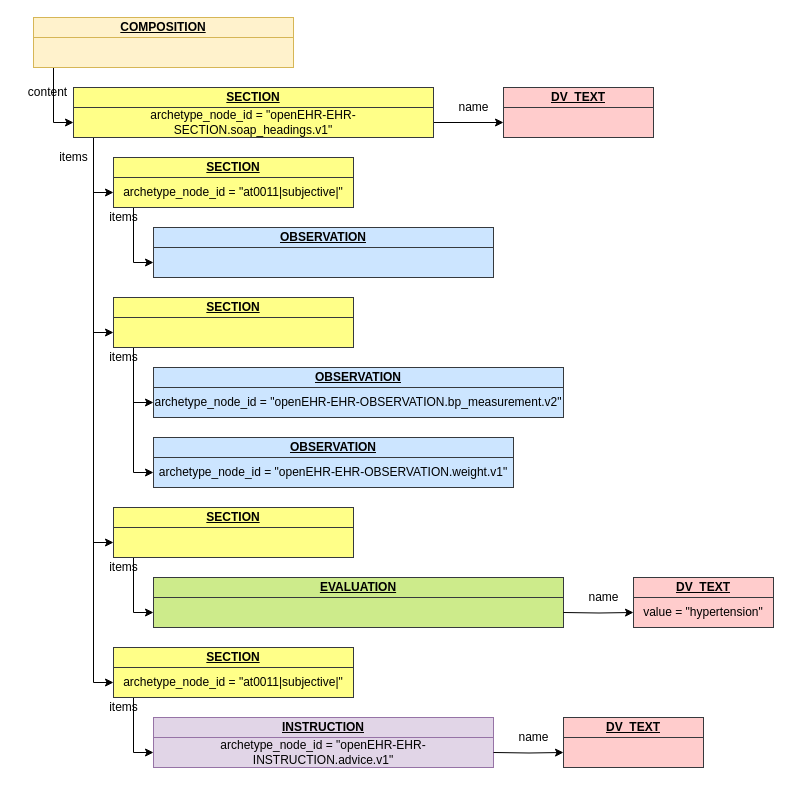
Some shapes in this 791 by 785 pixel diagram are drawn without their labels. Here are the shapes that lost their labels. From the top down, the centre of each, then its label:
point (163, 52): archetype_node_id = "at0000|patient contact|"
point (578, 122): value = "diabetes mellitus"
point (323, 262): archetype_node_id = " openEHR-EHR-OBSERVATION.pain.v1 "
point (233, 332): archetype_node_id = " at0012|objective| "
point (233, 542): archetype_node_id = " at0013|assessment| "
point (358, 612): archetype_node_id = " openEHR-EHR-EVALUATION.problem_diagnosis.v1 "
point (633, 752): value = "low salt diet"
